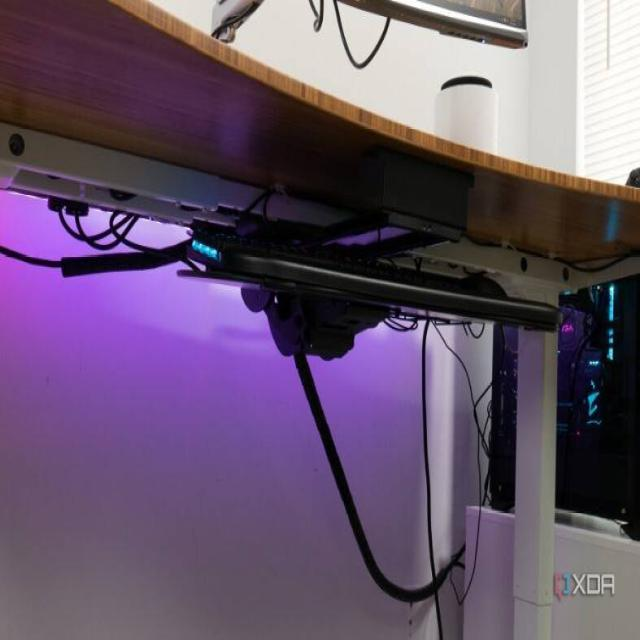electronics: (7, 128, 557, 329), (3, 196, 557, 358), (242, 286, 464, 634), (189, 150, 559, 358), (294, 352, 464, 636), (189, 229, 559, 329), (220, 243, 556, 329), (0, 122, 263, 224), (237, 148, 474, 255), (555, 278, 639, 536), (265, 143, 473, 245), (287, 148, 474, 255), (555, 280, 634, 519), (556, 284, 627, 517), (0, 196, 194, 276), (0, 196, 188, 273), (555, 306, 624, 514), (333, 0, 527, 68), (333, 0, 526, 66), (47, 196, 188, 276), (242, 286, 388, 358), (600, 276, 639, 538), (364, 148, 474, 238), (235, 212, 455, 256), (604, 278, 639, 538), (339, 0, 527, 45), (557, 284, 615, 429), (342, 0, 527, 45), (556, 306, 612, 438), (294, 212, 459, 256), (490, 327, 525, 506), (11, 243, 186, 276), (491, 329, 521, 506), (434, 76, 499, 152), (490, 327, 517, 506), (490, 324, 516, 508), (46, 243, 189, 276), (333, 0, 390, 68), (333, 0, 389, 68), (423, 0, 525, 26), (270, 191, 348, 224), (212, 0, 262, 40), (211, 0, 252, 40), (421, 322, 429, 503), (60, 143, 95, 171), (191, 240, 225, 261), (422, 404, 429, 503), (48, 196, 88, 212), (310, 0, 324, 30), (310, 0, 323, 30), (8, 133, 24, 156), (311, 0, 323, 28), (111, 189, 133, 201), (626, 168, 639, 187), (627, 168, 639, 187), (258, 191, 273, 204), (237, 222, 250, 235), (195, 222, 214, 230), (421, 363, 425, 399), (198, 252, 209, 261), (117, 191, 128, 199), (259, 191, 267, 201), (602, 494, 610, 503), (609, 304, 615, 315), (609, 345, 614, 358), (421, 347, 425, 363), (600, 291, 607, 299), (239, 227, 246, 233), (599, 291, 607, 296), (59, 143, 67, 148), (241, 215, 250, 219), (606, 419, 610, 427), (617, 447, 623, 452), (613, 489, 619, 494), (242, 212, 251, 215), (191, 245, 196, 250), (381, 219, 386, 224), (320, 5, 323, 12), (28, 258, 34, 261), (11, 252, 15, 256), (603, 489, 611, 491), (133, 247, 138, 250), (107, 230, 112, 233), (55, 204, 60, 207), (318, 0, 321, 5), (414, 322, 416, 327), (612, 345, 614, 350), (607, 391, 610, 394), (121, 212, 124, 215), (264, 235, 267, 238), (189, 273, 192, 276), (217, 224, 218, 229), (62, 215, 64, 217), (99, 152, 100, 156), (250, 205, 252, 207), (204, 247, 205, 250), (604, 368, 605, 371), (13, 255, 15, 256), (464, 261, 465, 263), (364, 245, 365, 247), (374, 243, 375, 245), (254, 203, 255, 204), (478, 461, 478, 463), (339, 230, 341, 230), (263, 230, 265, 230)
fans: (338, 17, 390, 68), (309, 0, 324, 30), (333, 0, 342, 24)
